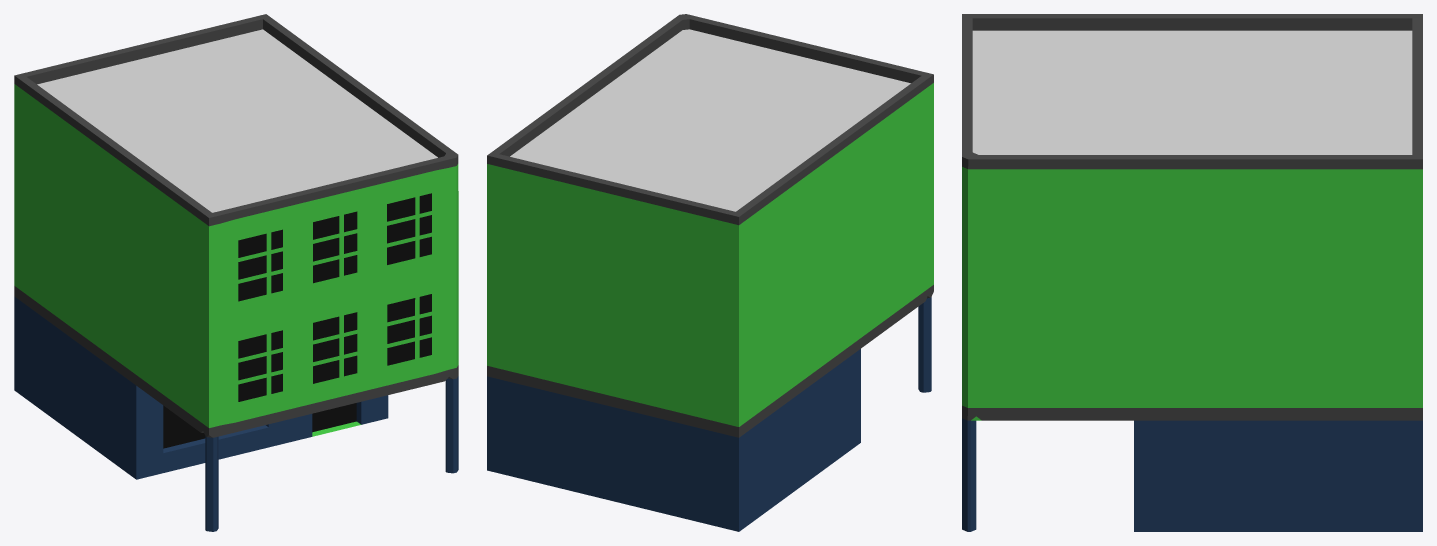
File: house-4.glb
The picture shows the model from 3 angles, left to right: view 1: azimuth 30°, elevation 25°; view 2: azimuth 150°, elevation 25°; view 3: azimuth 270°, elevation 25°; orthographic projection. The views are drawn at different scales.
Bounding box in the file's own units: 1.46 × 1.74 × 1.95.
